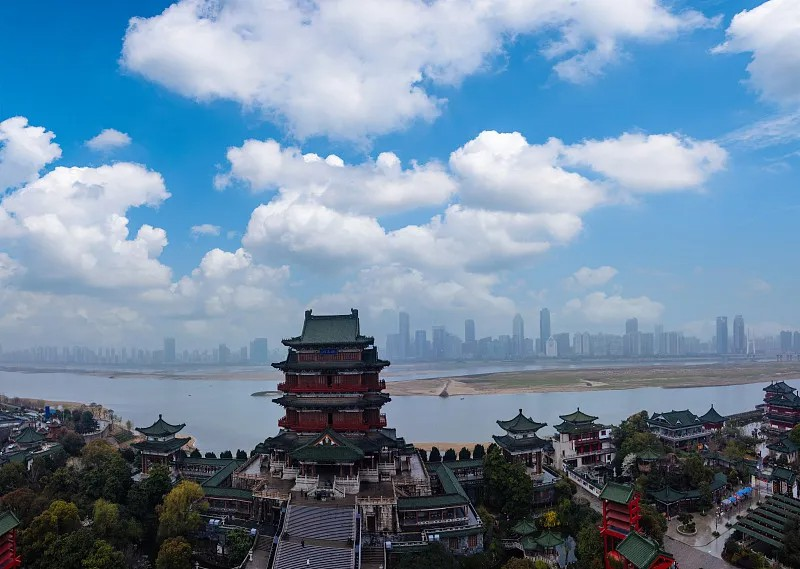Teng: (255, 309, 414, 473)
